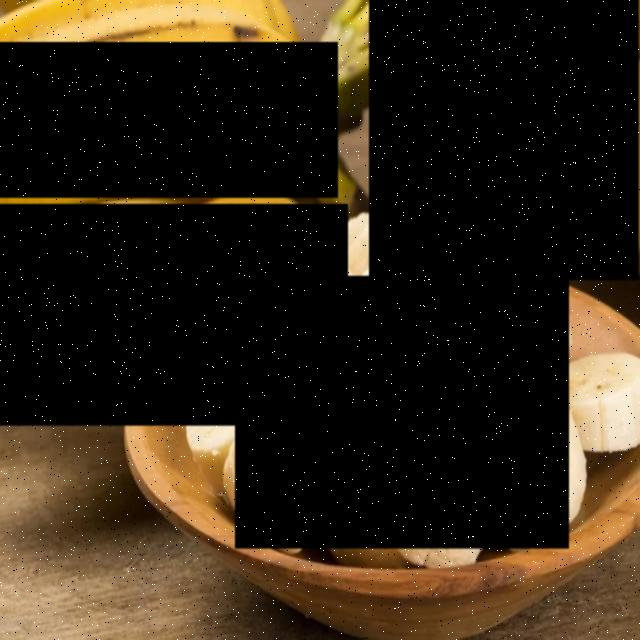Banana: (235, 277, 569, 550), (0, 204, 348, 426), (369, 0, 640, 280), (0, 42, 338, 198)
